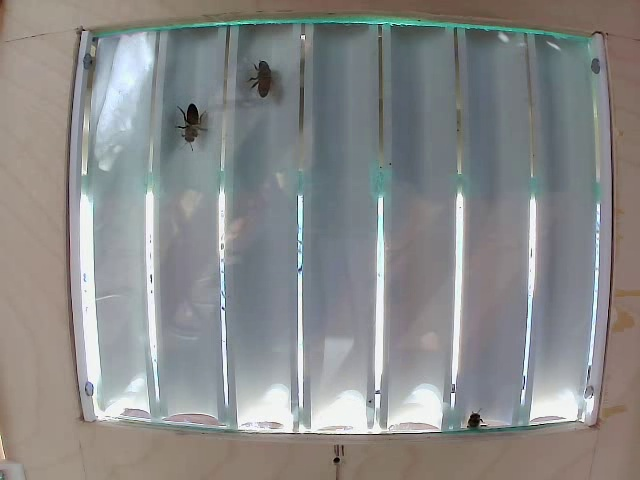bee: (250, 57, 289, 113), (174, 105, 216, 149)
